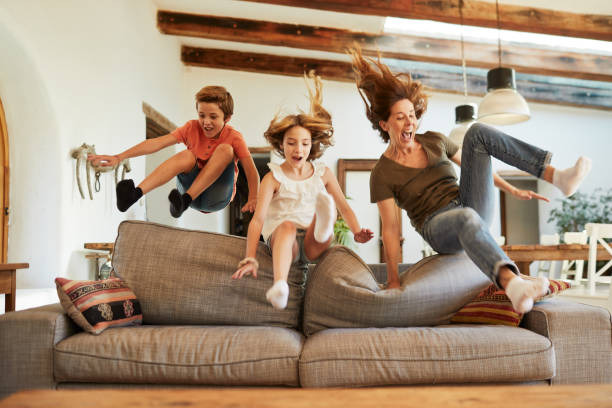without mask: (185, 85, 242, 138), (271, 118, 328, 171), (373, 95, 430, 148)
